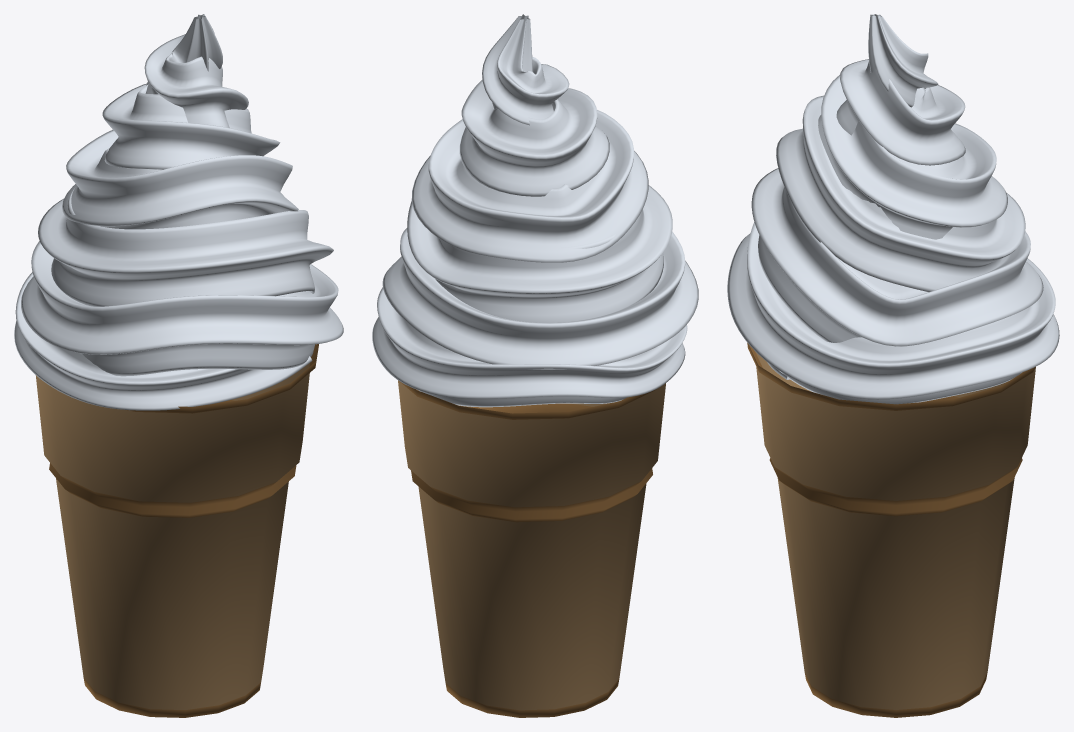
Rendered from icecream.fbx.
The picture shows the model from 3 angles, left to right: view 1: azimuth 30°, elevation 25°; view 2: azimuth 150°, elevation 25°; view 3: azimuth 270°, elevation 25°; orthographic projection. The views are drawn at different scales.
Visible parts, largest first — view 1: Cube; view 2: Cube; view 3: Cube.
Part boxes in pixels (box(x1,y1,x2,y2)): Cube: box(14, 14, 343, 717); Cube: box(372, 14, 698, 717); Cube: box(727, 14, 1059, 717).
Size of the model in its own units: 202 by 458 by 204.
